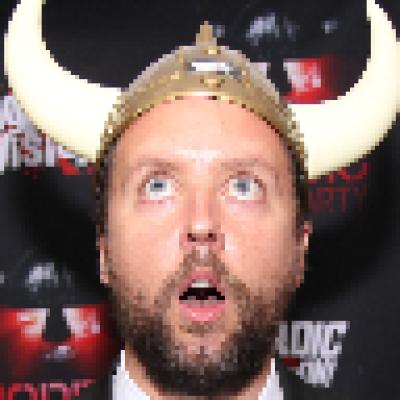surprise: (106, 86, 302, 382)
